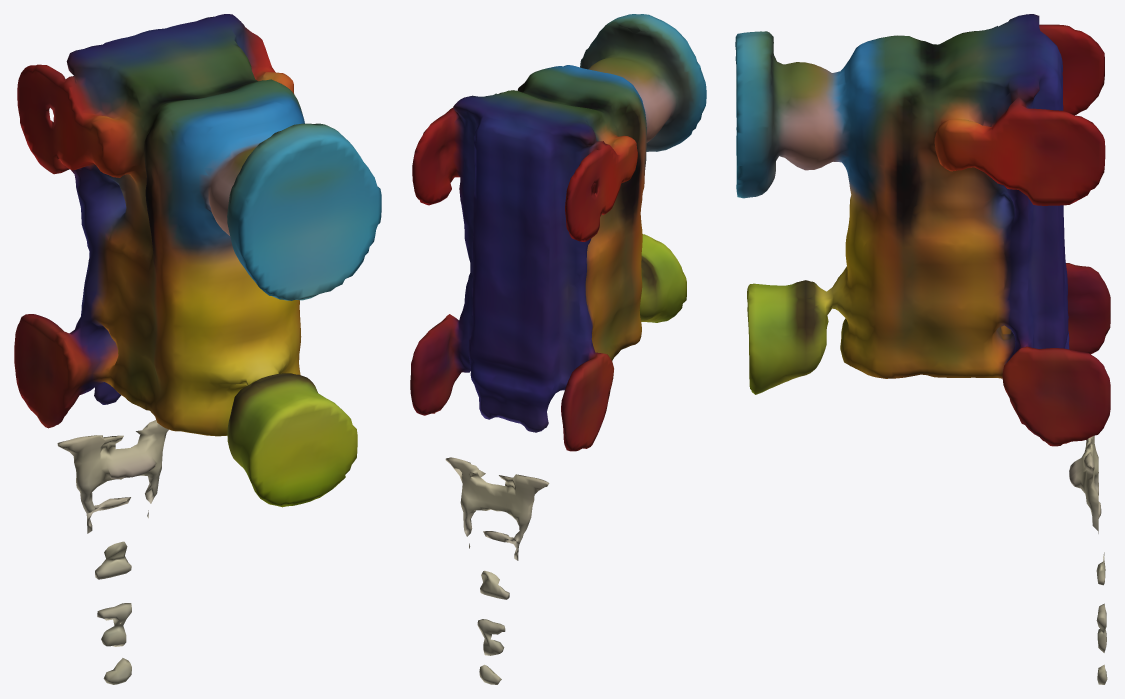
The model's file is train.glb.
The picture shows the model from 3 angles, left to right: view 1: azimuth 30°, elevation 25°; view 2: azimuth 150°, elevation 25°; view 3: azimuth 270°, elevation 25°; orthographic projection. The views are drawn at different scales.
Bounding box in the file's own units: 0.3017 × 0.9994 × 0.5282.
